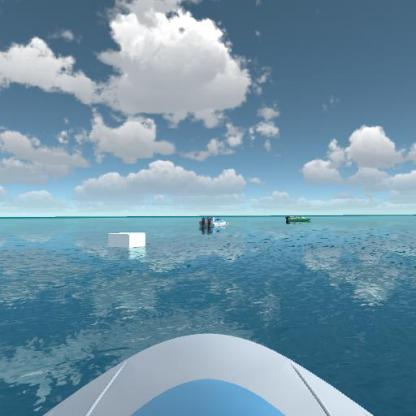usv0: (283, 213, 316, 225)
usv1: (198, 212, 234, 232)
